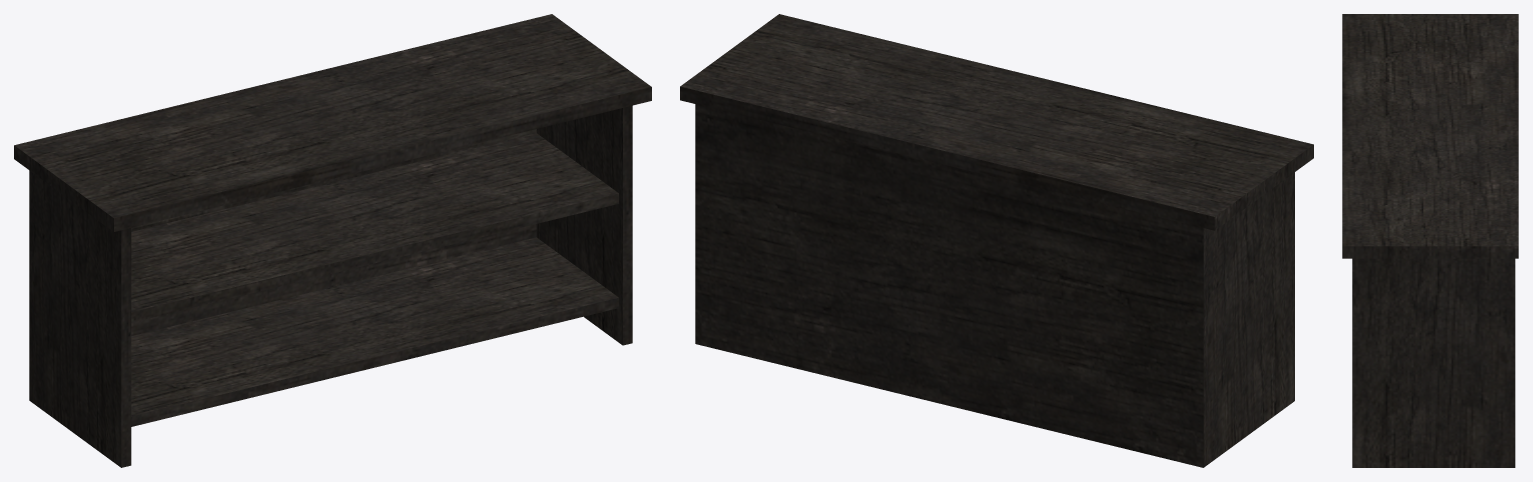
The model's file is tv_table_1.fbx.
The picture shows the model from 3 angles, left to right: view 1: azimuth 30°, elevation 25°; view 2: azimuth 150°, elevation 25°; view 3: azimuth 270°, elevation 25°; orthographic projection. The views are drawn at different scales.
Visible parts, largest first — view 1: tv_table_1; view 2: tv_table_1; view 3: tv_table_1.
Part boxes in pixels (box(x1,y1,x2,y2)): tv_table_1: box(14, 14, 651, 467); tv_table_1: box(680, 14, 1313, 467); tv_table_1: box(1342, 14, 1518, 467).
Size of the model in its own units: 1.62 by 0.52 by 0.74.
